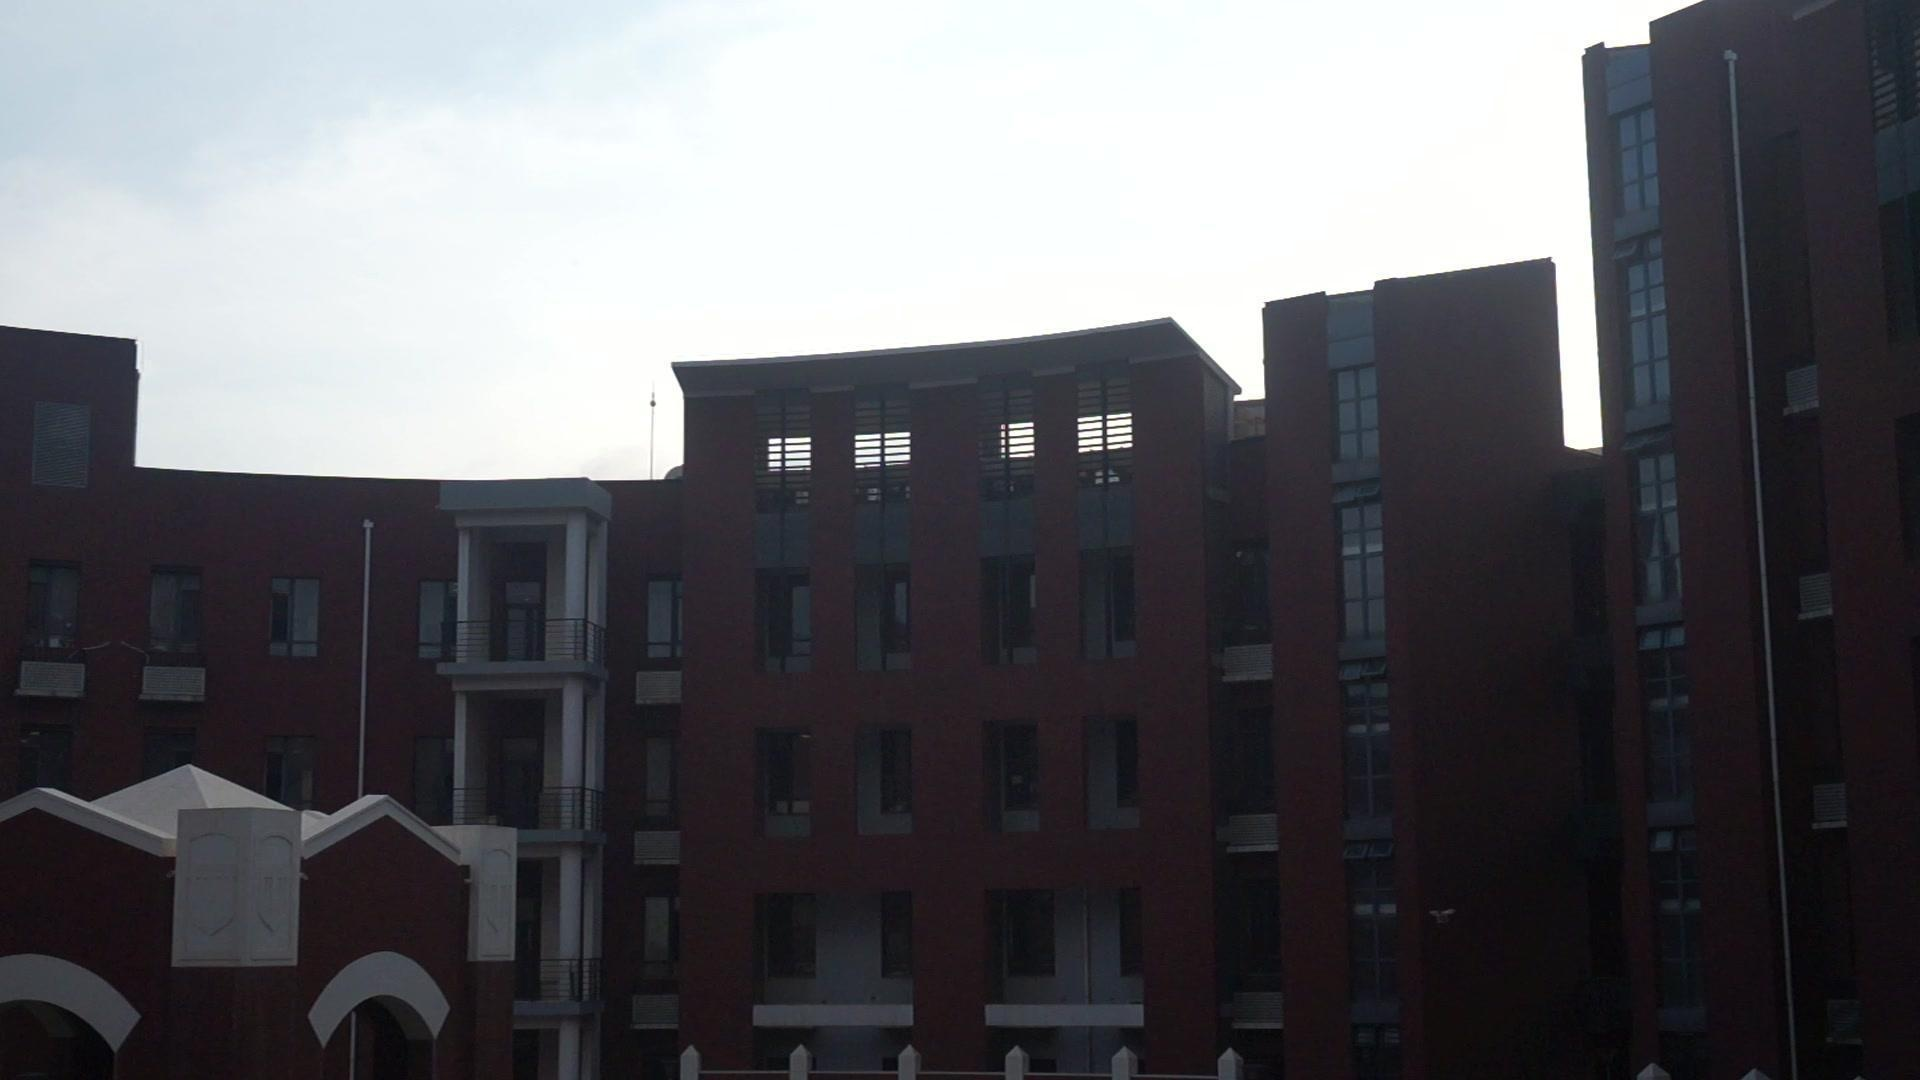UAV: (1429, 909, 1458, 924)
